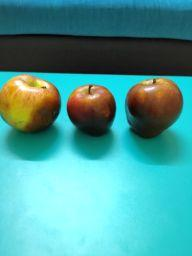Apple Rotten: (123, 76, 183, 144), (67, 82, 117, 139)
Apple Semirotten: (1, 73, 62, 144)
